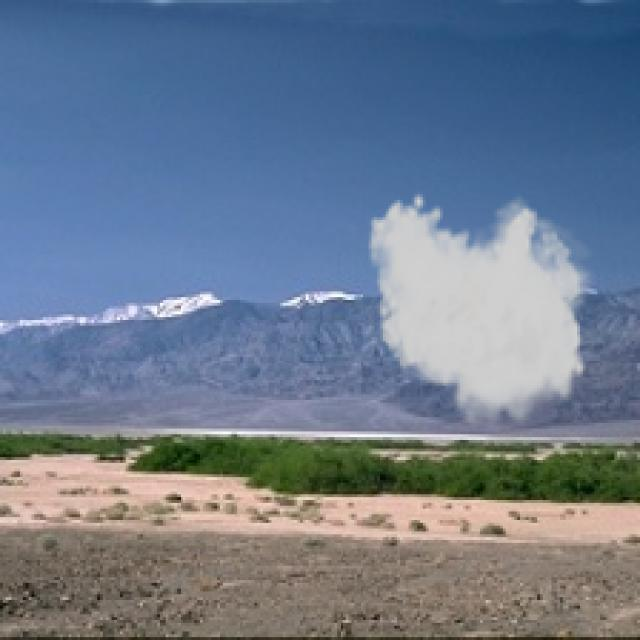smoke: (366, 192, 600, 434)
